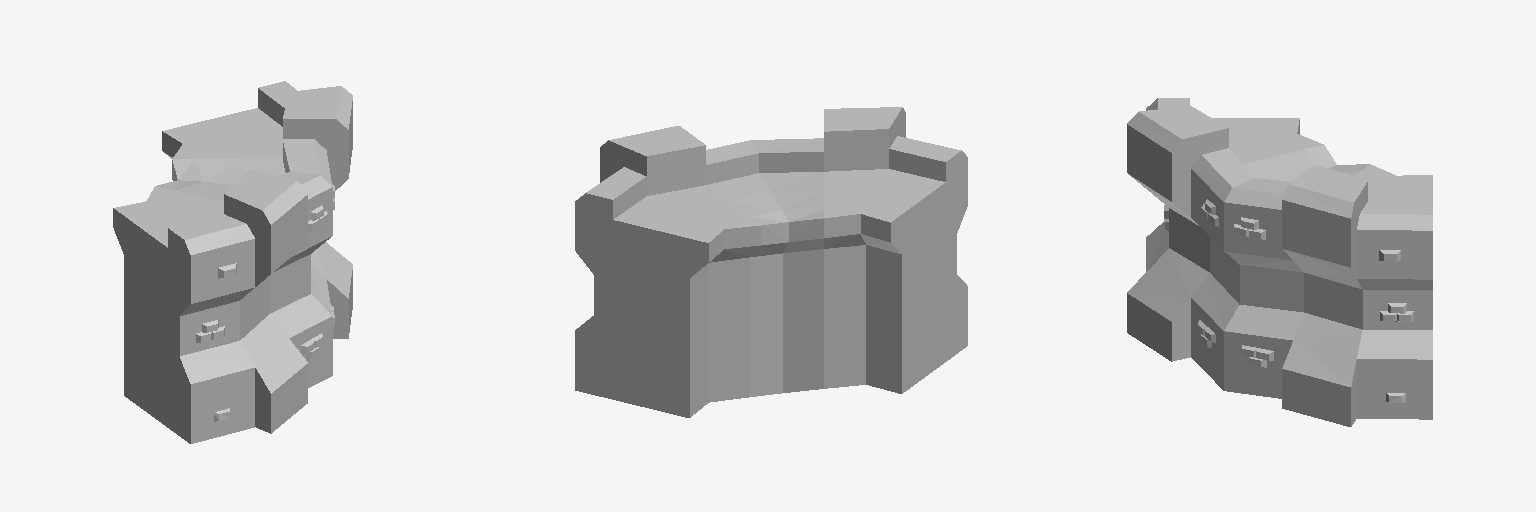
File: wall_corner.obj
3 views of the same model, side by side, from view 1: azimuth 30°, elevation 25°; view 2: azimuth 150°, elevation 25°; view 3: azimuth 270°, elevation 25° (orthographic).
Parts seen in each view (by area): view 1: wall_straight.003; view 2: wall_straight.003; view 3: wall_straight.003.
Part boxes in pixels (bbox=[...]): wall_straight.003: bbox=[113, 81, 352, 443]; wall_straight.003: bbox=[575, 107, 967, 417]; wall_straight.003: bbox=[1127, 98, 1432, 426].
Bounding box in the file's own units: 1.39 × 1.13 × 1.39.